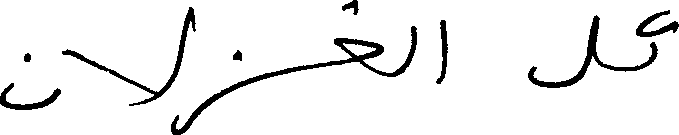ا: (434, 17, 448, 83)
ت: (643, 7, 677, 68)
ز: (190, 4, 256, 124)
غ: (332, 0, 383, 76)
ل: (526, 13, 600, 89), (399, 24, 417, 75)
لا: (61, 4, 193, 133)
ن: (0, 51, 61, 110)
